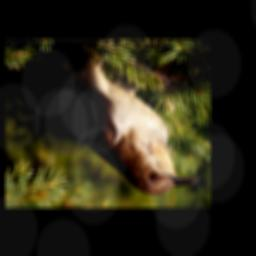Cuckoo: (13, 52, 200, 196)
